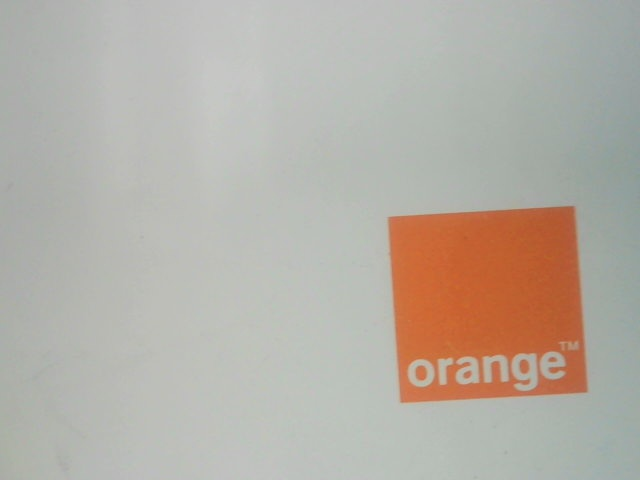AR_Orange: (380, 202, 593, 402)
